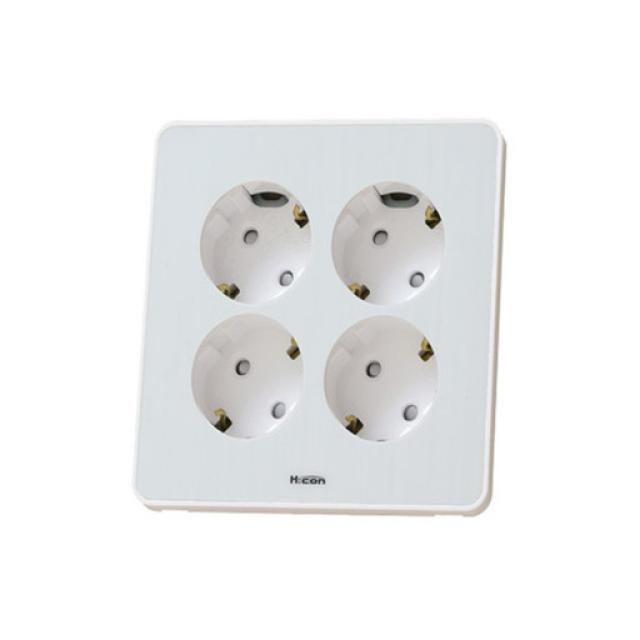typeb: (137, 101, 529, 540)
